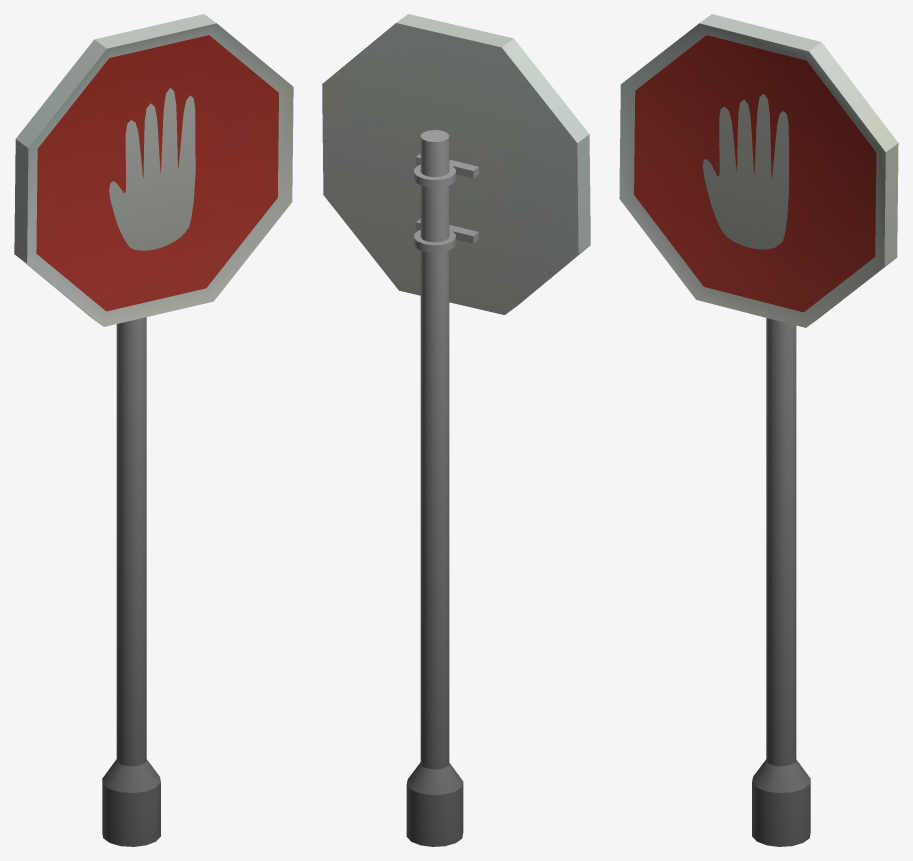
File: stop-sign.glb
The picture shows the model from 3 angles, left to right: view 1: azimuth 30°, elevation 25°; view 2: azimuth 150°, elevation 25°; view 3: azimuth 330°, elevation 25°; orthographic projection. The views are drawn at different scales.
Parts seen in each view (by area): view 1: stop_sign; view 2: stop_sign; view 3: stop_sign.
Boxes of the visible parts, box(x1,y1,x2,y2) form: stop_sign: box(14, 14, 293, 846); stop_sign: box(322, 14, 590, 846); stop_sign: box(619, 14, 898, 846).
Size of the model in its own units: 1.86 by 5.46 by 0.5263.
1 material, 1 textured.
